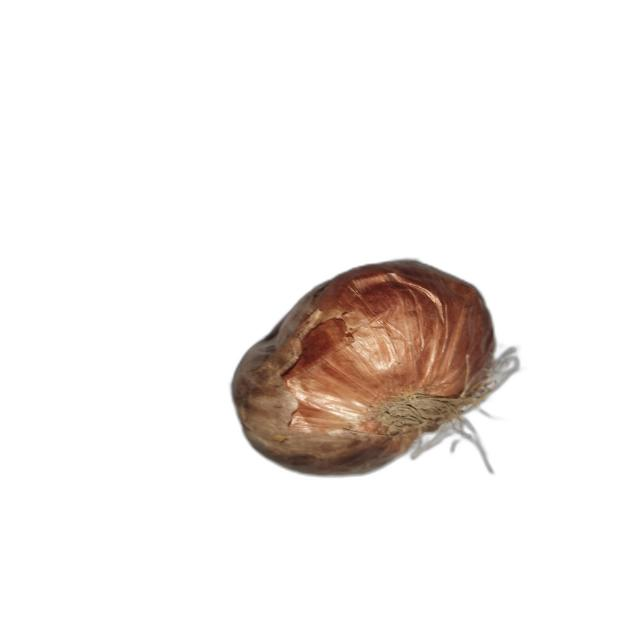onion: (228, 258, 520, 481)
